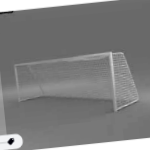goals: (13, 50, 141, 116)
